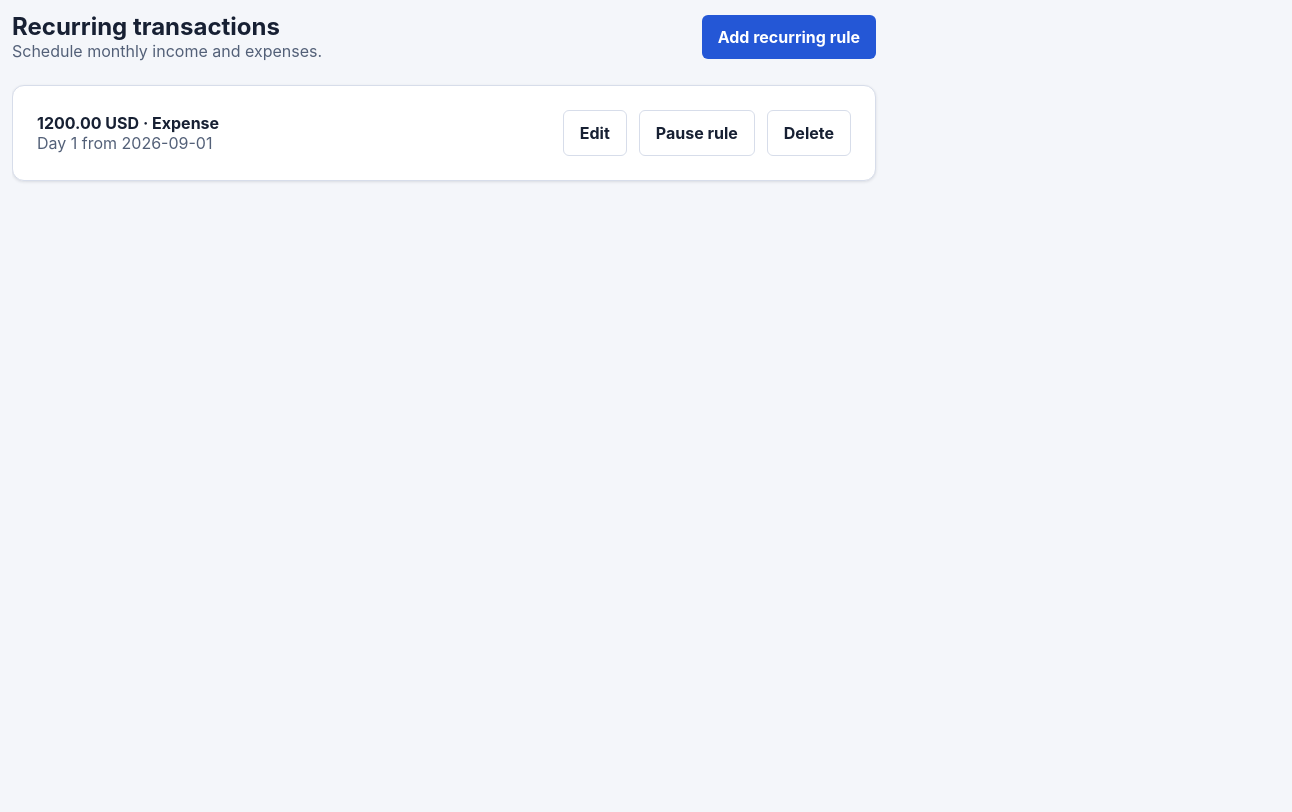
pauses and activates a recurring rule
Expected: the text "1200.00 USD · Expense" is shown, [37,113,219,133]
Click the button "Pause rule" at (697, 133), box [639,110,755,156]
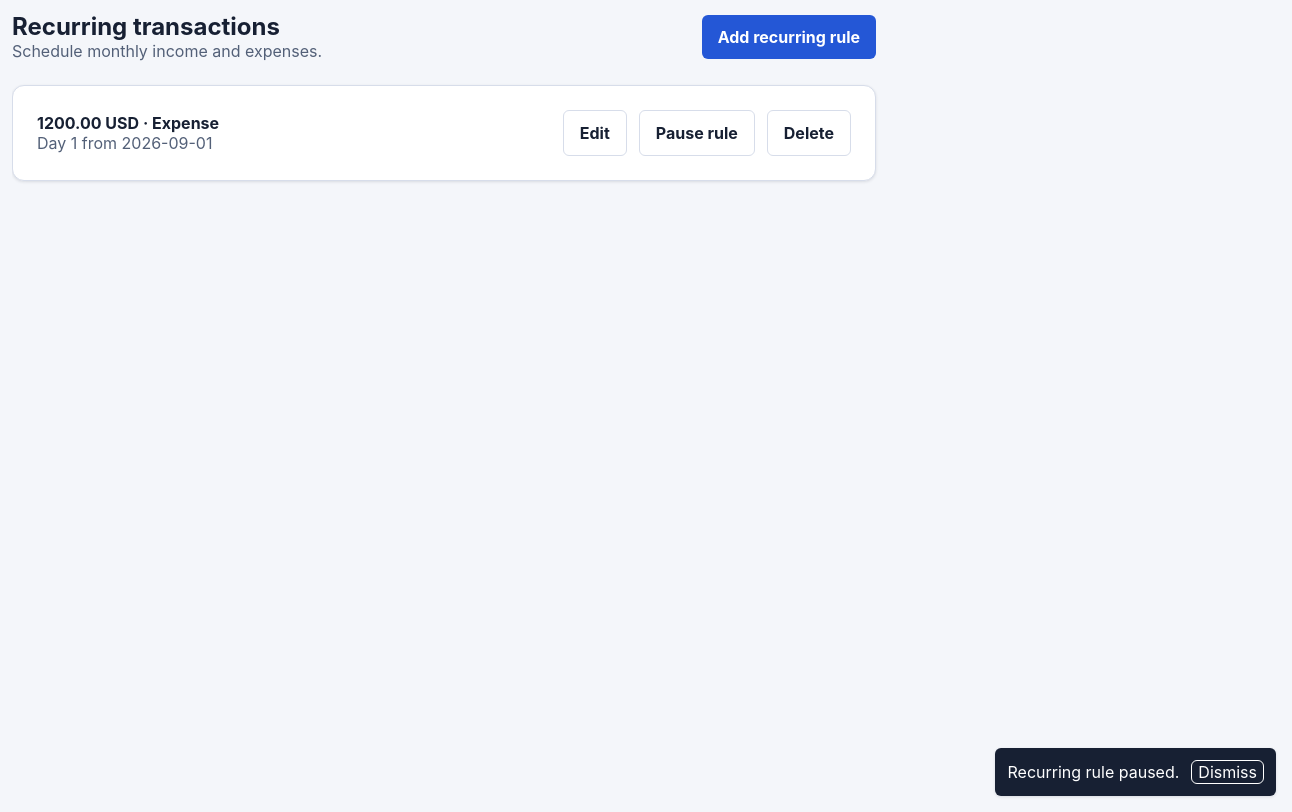
Expected: the text "Recurring rule paused." is shown, [1008,762,1179,782]
